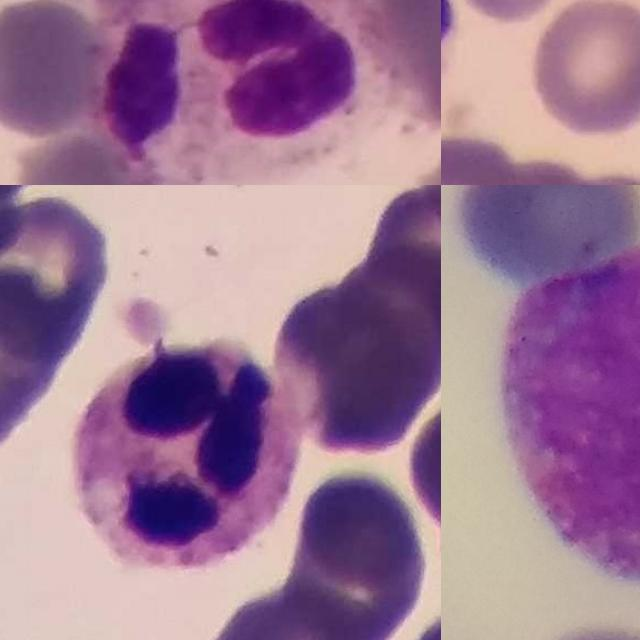Basophil: (499, 248, 640, 585)
Neutrophil: (100, 0, 433, 185), (73, 341, 297, 570)
